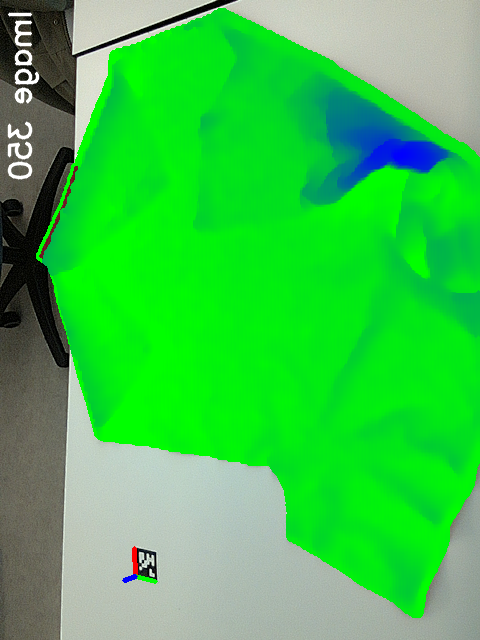V: (106, 312, 165, 370), (128, 154, 179, 202), (188, 195, 237, 240)
